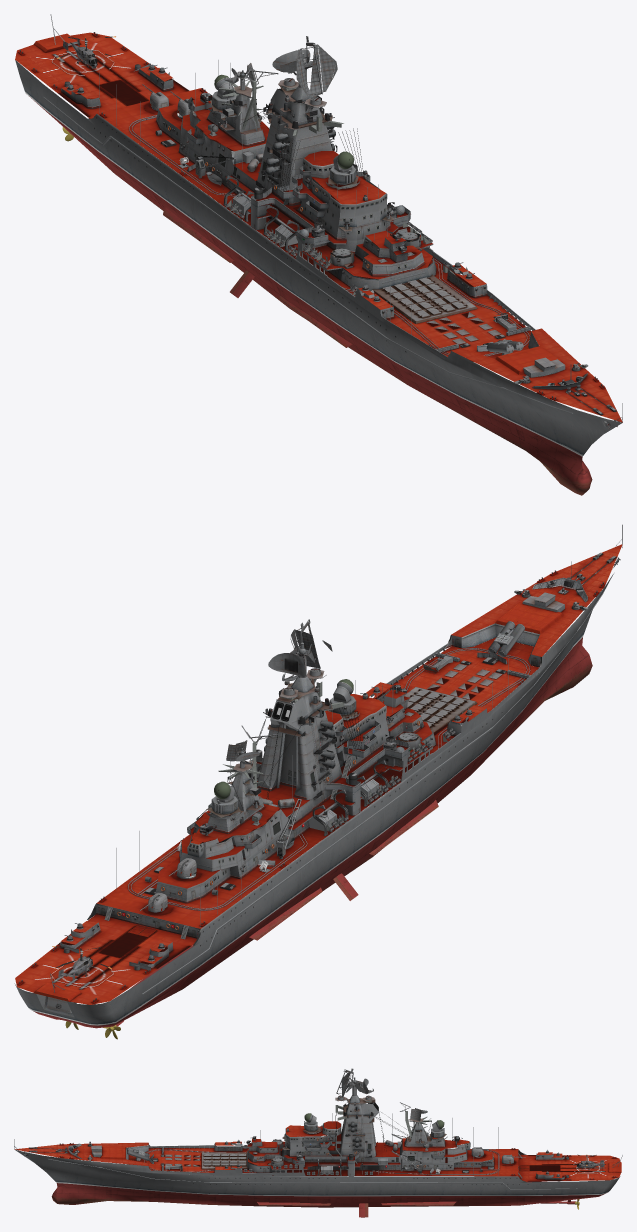
File: kirov-class_cruiser-maximum-compressed.glb
3 views of the same model, one above another, from view 1: azimuth 30°, elevation 25°; view 2: azimuth 150°, elevation 25°; view 3: azimuth 270°, elevation 25° (orthographic). The views are drawn at different scales.
Parts seen in each view (by area): view 1: Object_5, Object_7, Object_9, Object_11; view 2: Object_5, Object_7, Object_9, Object_11, Object_13; view 3: Object_5, Object_7, Object_9, Object_11.
Boxes of the visible parts, bbox=[...] form: Object_5: bbox=[15, 14, 622, 495]; Object_7: bbox=[15, 32, 622, 422]; Object_9: bbox=[219, 80, 507, 321]; Object_11: bbox=[280, 36, 337, 96]; Object_5: bbox=[14, 524, 622, 1028]; Object_7: bbox=[15, 544, 622, 1004]; Object_9: bbox=[218, 665, 451, 833]; Object_11: bbox=[290, 619, 332, 669]; Object_13: bbox=[268, 653, 306, 681]; Object_5: bbox=[14, 1077, 622, 1217]; Object_7: bbox=[15, 1096, 621, 1181]; Object_9: bbox=[180, 1100, 431, 1175]; Object_11: bbox=[336, 1068, 365, 1097].
Bounding box in the file's own units: 0.0214 × 0.0432 × 0.1736.
12 materials, 9 textured.
